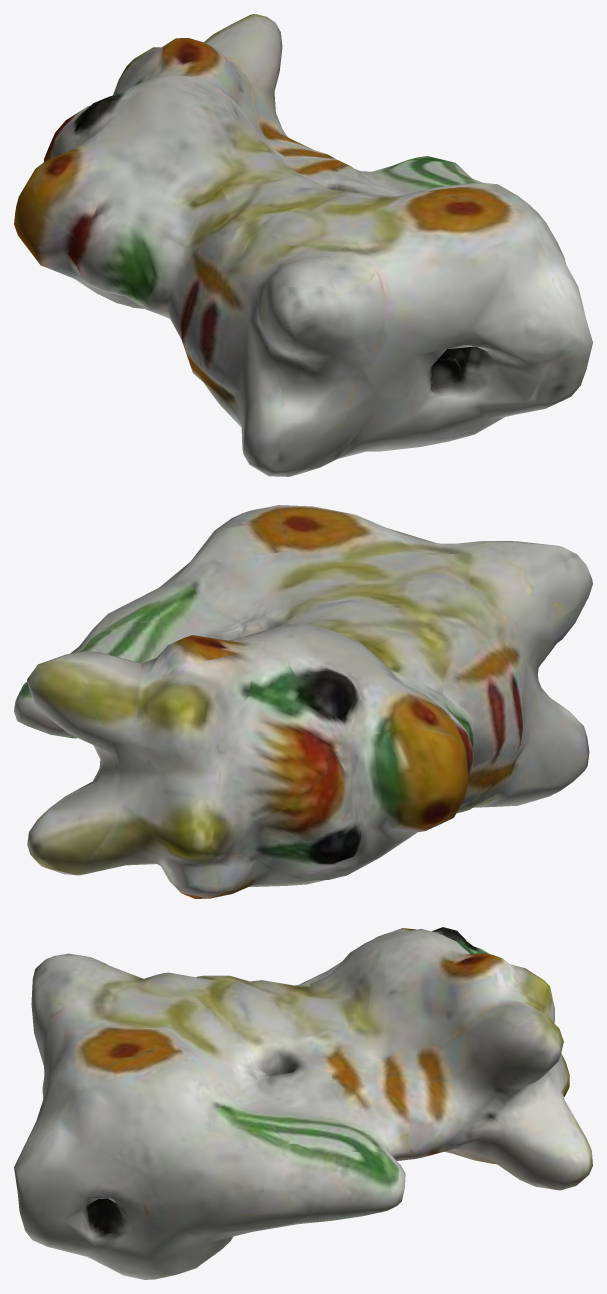
Rendered from hall.glb.
3 views of the same model, one above another, from view 1: azimuth 30°, elevation 25°; view 2: azimuth 150°, elevation 25°; view 3: azimuth 270°, elevation 25° (orthographic). The views are drawn at different scales.
Size of the model in its own units: 0.3027 by 0.1899 by 0.3714.
1 material, 1 textured.
